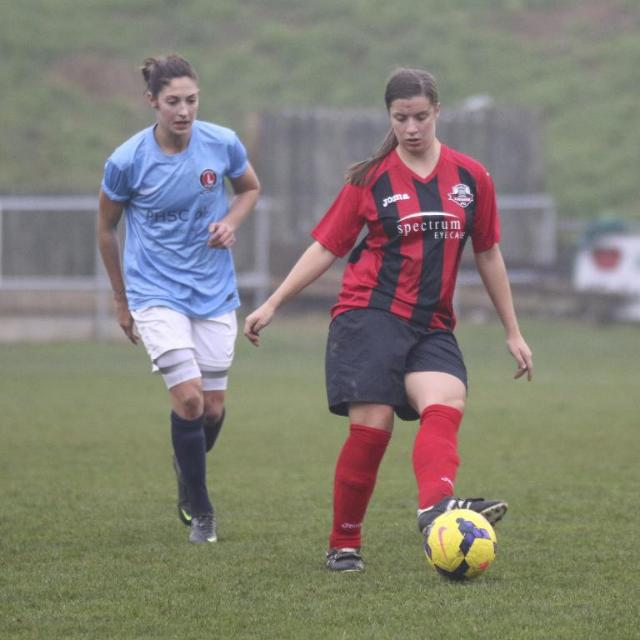Football: (425, 508, 495, 580)
